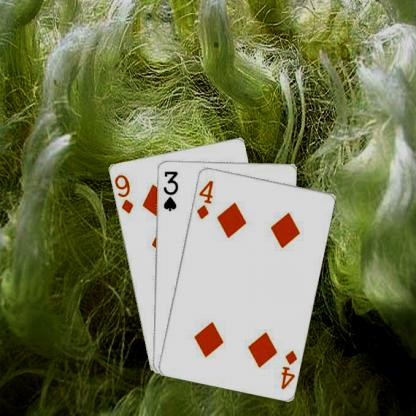3S: (160, 168, 179, 212)
4D: (193, 178, 214, 221), (278, 348, 298, 390)
9D: (112, 171, 134, 215)
